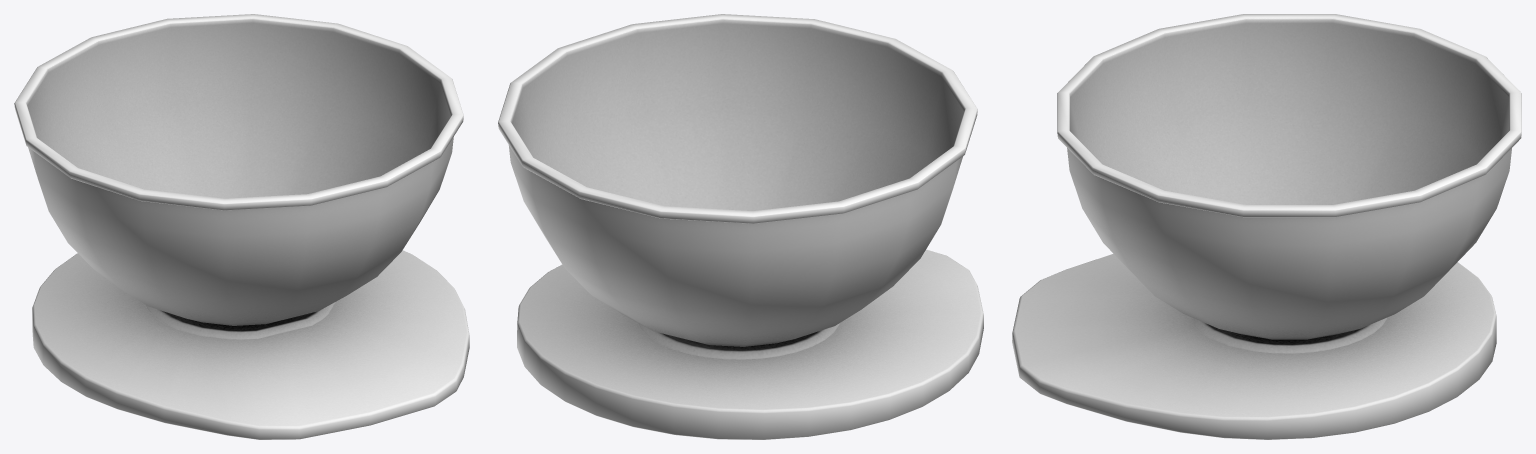
File: Scales.fbx
3 renders of one model, left to right at view 1: azimuth 30°, elevation 25°; view 2: azimuth 150°, elevation 25°; view 3: azimuth 270°, elevation 25°, orthographic. The views are drawn at different scales.
Parts seen in each view (by area): view 1: Skales; view 2: Skales; view 3: Skales.
Boxes of the visible parts, bbox=[...] form: Skales: bbox=[14, 14, 469, 439]; Skales: bbox=[498, 14, 983, 439]; Skales: bbox=[1012, 14, 1521, 439].
Size of the model in its own units: 20.32 by 11.21 by 22.29.
